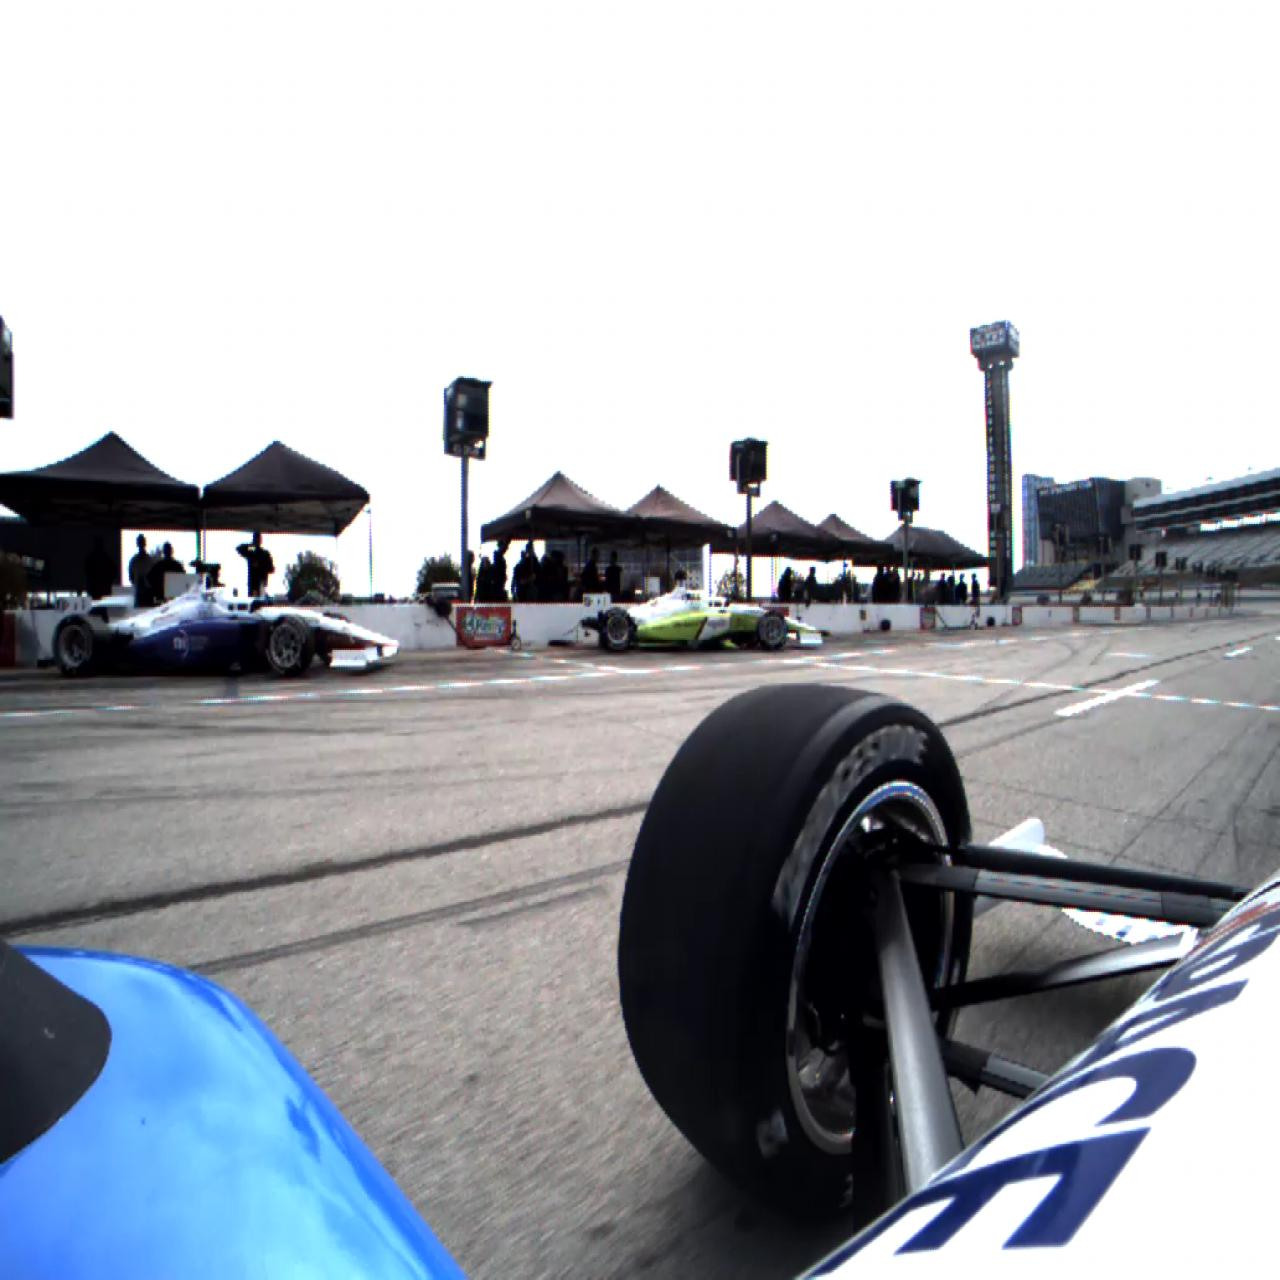AV: (53, 559, 400, 680), (583, 568, 829, 652)
Wheel: (618, 685, 978, 1213), (53, 613, 109, 676), (265, 614, 314, 679), (601, 606, 634, 653), (758, 611, 787, 651)
